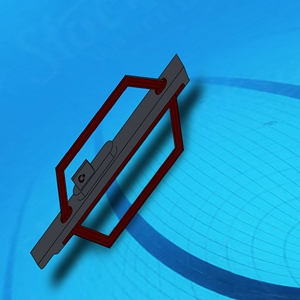submarine: (32, 54, 195, 266)
